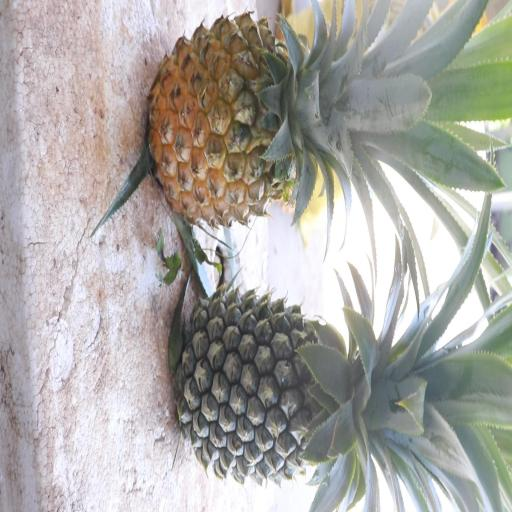Pineapple - v8 v1: (156, 0, 422, 229)
